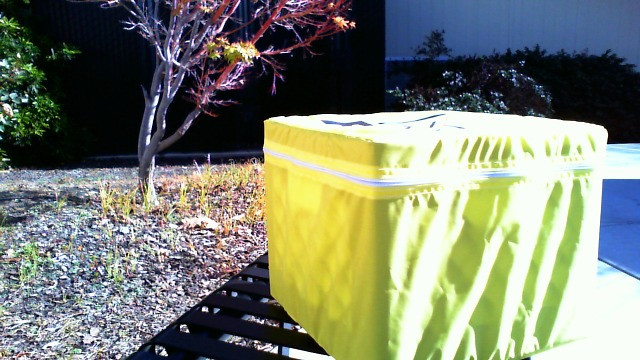cube: (256, 111, 608, 360)
